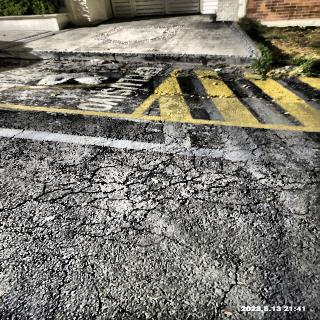alligator-crack: (1, 118, 320, 242)
